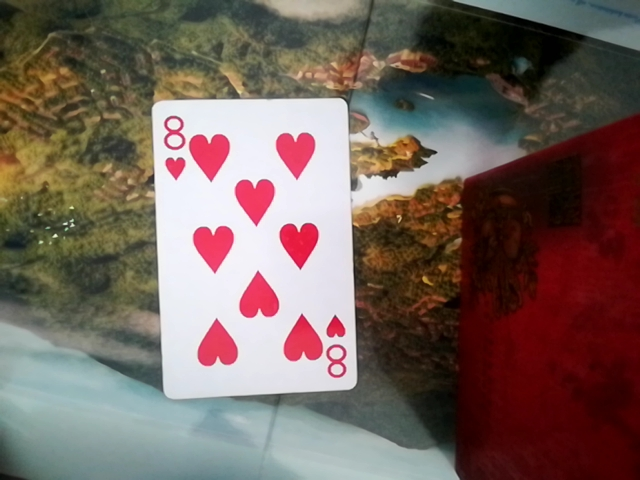hx 8: (145, 90, 357, 397)
